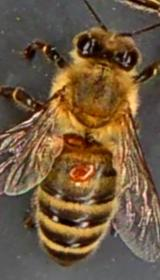varroa_mite: (61, 157, 95, 184)
